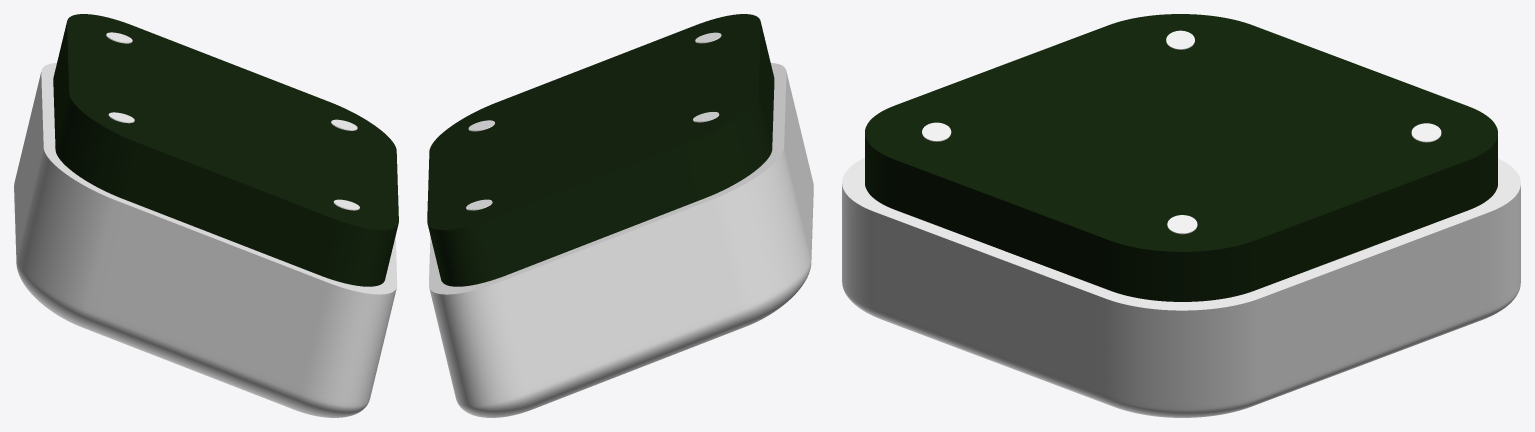
Rendered from Bumper-losange1.glb.
3 views of the same model, side by side, from view 1: azimuth 30°, elevation 25°; view 2: azimuth 150°, elevation 25°; view 3: azimuth 270°, elevation 25° (orthographic). The views are drawn at different scales.
Parts seen in each view (by area): view 1: Cube_4_7_Mat.16_0, Cube_6_9_Mat.1_0; view 2: Cube_4_7_Mat.16_0, Cube_6_9_Mat.1_0; view 3: Cube_4_7_Mat.16_0, Cube_6_9_Mat.1_0.
Boxes of the visible parts, box(x1,y1,x2,y2) form: Cube_4_7_Mat.16_0: box(53, 14, 398, 286); Cube_6_9_Mat.1_0: box(14, 63, 397, 417); Cube_4_7_Mat.16_0: box(427, 14, 774, 286); Cube_6_9_Mat.1_0: box(429, 63, 813, 417); Cube_4_7_Mat.16_0: box(865, 14, 1497, 301); Cube_6_9_Mat.1_0: box(842, 157, 1520, 417).
Size of the model in its own units: 0.4026 by 0.2959 by 0.6487.
